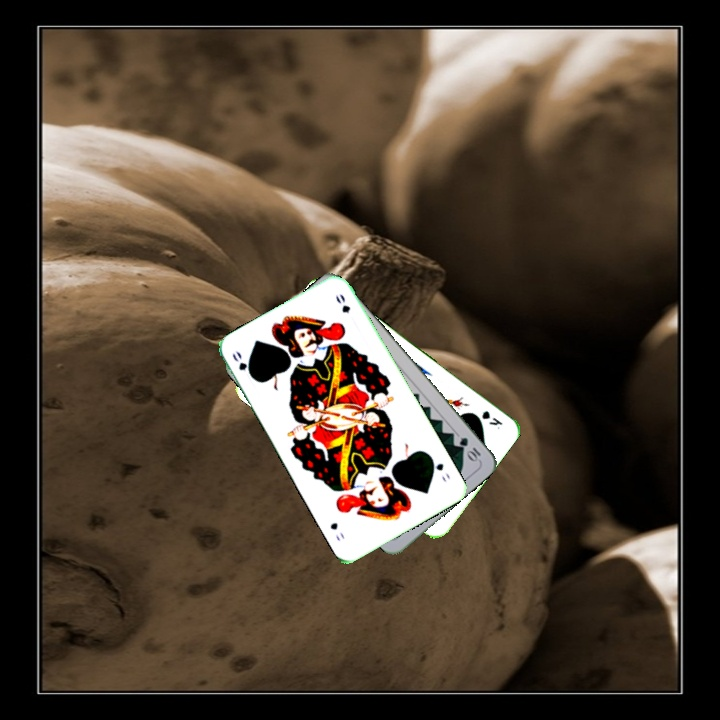G10: (455, 433, 483, 464)
GK: (477, 406, 505, 432)
GO: (228, 347, 258, 382), (426, 452, 453, 485)
